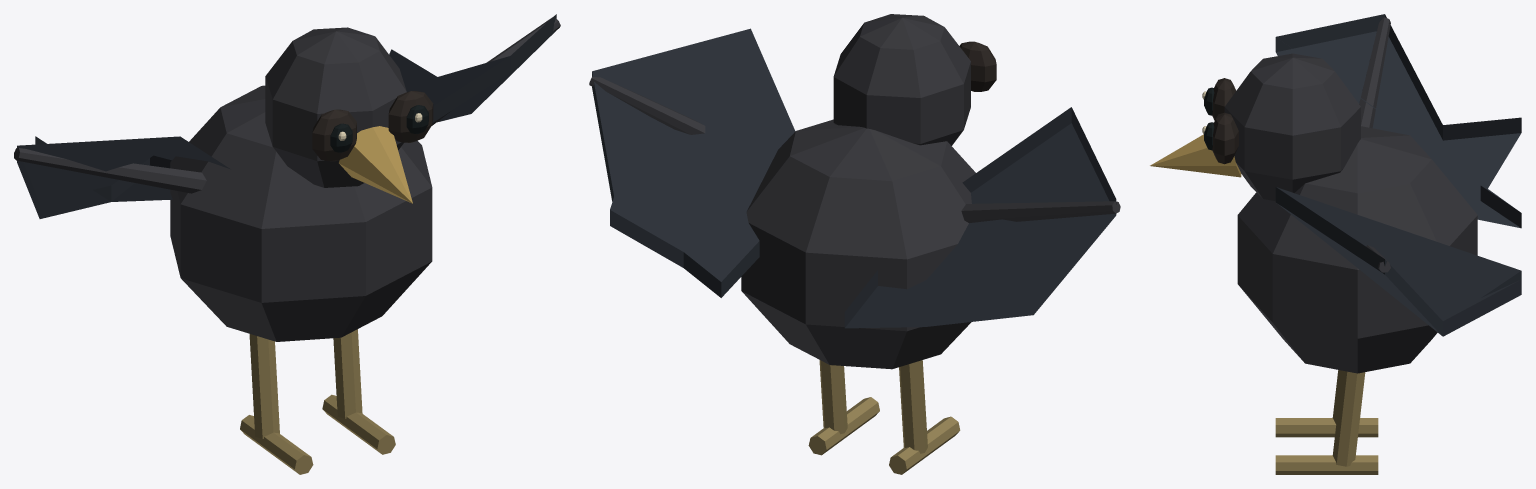
Rendered from fauna-bonecrow.glb.
3 renders of one model, left to right at view 1: azimuth 30°, elevation 25°; view 2: azimuth 150°, elevation 25°; view 3: azimuth 270°, elevation 25°, orthographic. The views are drawn at different scales.
Visible parts, largest first — view 1: Fauna_bonecrow; view 2: Fauna_bonecrow; view 3: Fauna_bonecrow.
Boxes of the visible parts, x1=… form: Fauna_bonecrow: x1=14, y1=14, x2=560, y2=474; Fauna_bonecrow: x1=589, y1=14, x2=1120, y2=474; Fauna_bonecrow: x1=1150, y1=14, x2=1521, y2=474.
Bounding box in the file's own units: 1.71 × 1.28 × 1.09.
